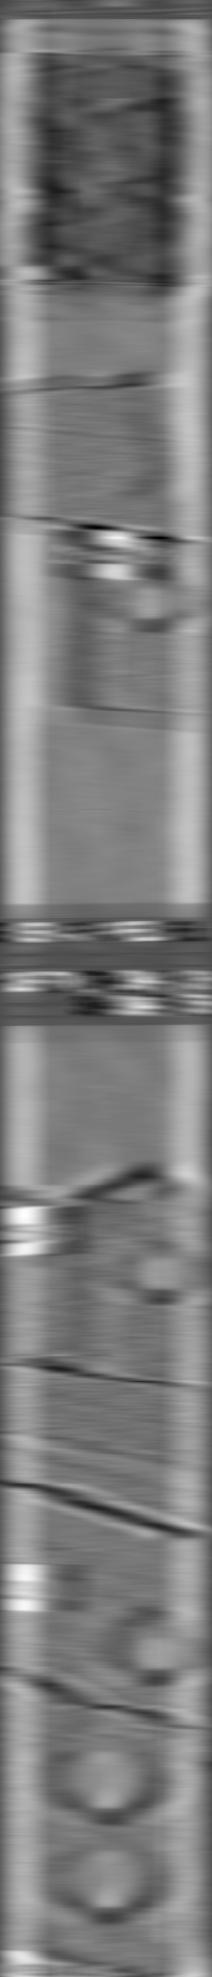hplug: (115, 1234, 204, 1311), (119, 1609, 196, 1691), (115, 564, 192, 635)
scal: (56, 1726, 164, 1829), (56, 1829, 164, 1932)
vplug: (1, 507, 93, 710), (13, 1193, 93, 1376)
